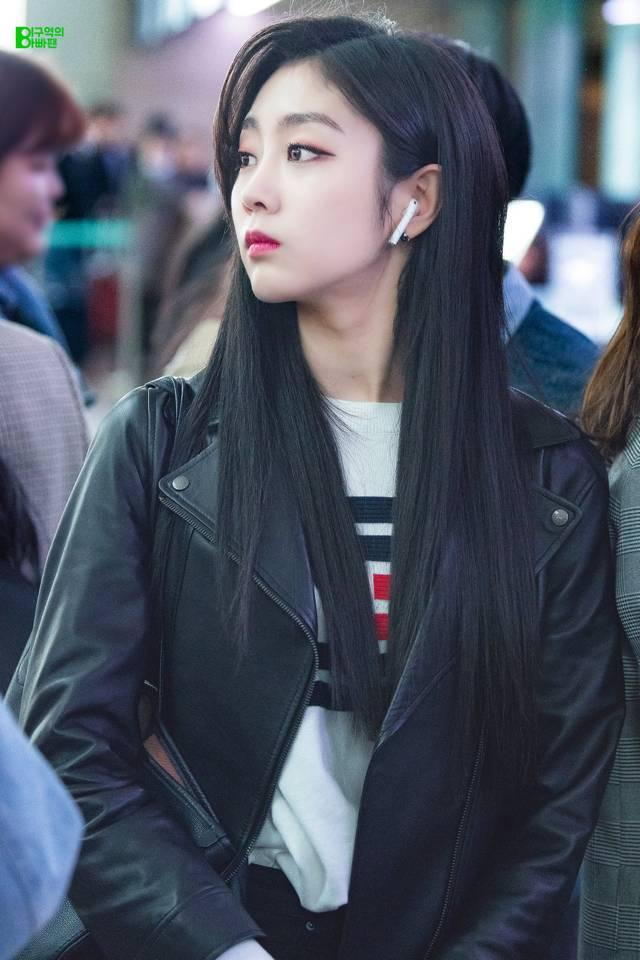earphone: (382, 189, 425, 246)
